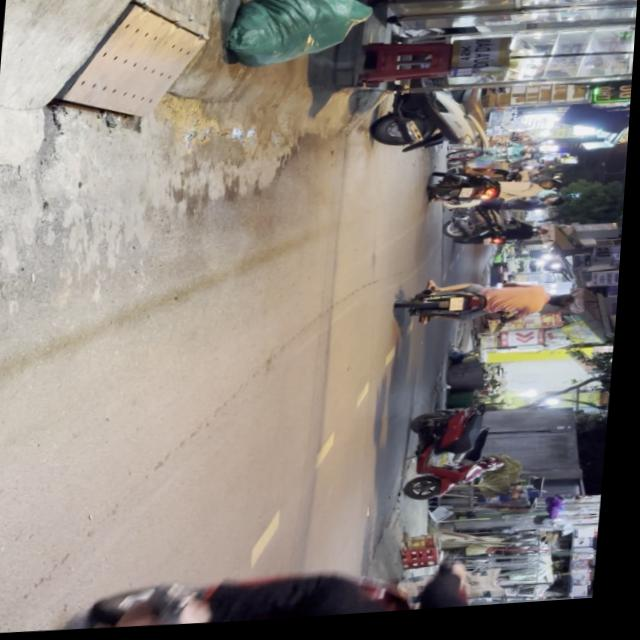licenseplate: (33, 550, 604, 636), (401, 280, 585, 336)
motorcyclist: (552, 301, 581, 317)
nohelmet: (455, 304, 469, 317)
